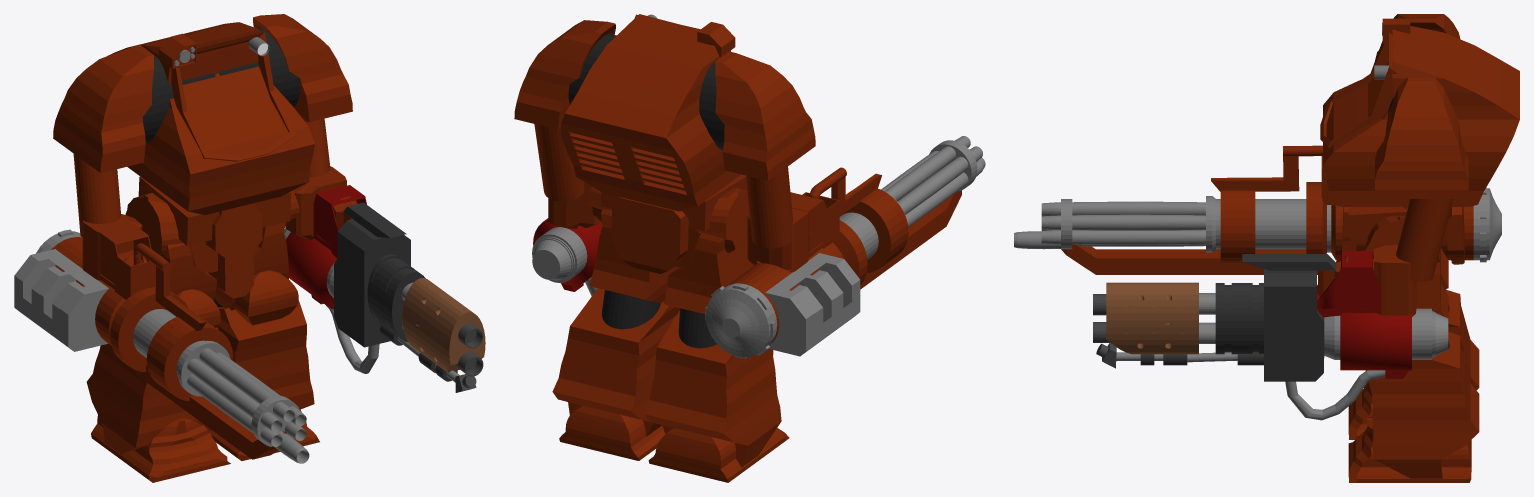
The model's file is TerminatorArmorWithAssaultCannon.Empty.fbx.
3 renders of one model, left to right at view 1: azimuth 30°, elevation 25°; view 2: azimuth 150°, elevation 25°; view 3: azimuth 270°, elevation 25°, orthographic.
Visible parts, largest first — view 1: AmmoBox, Torso, Pauldron.Right, Leg.Lower.Right, Leg.Lower.Left, ArmoredCollarImposter, Cube, Pauldron.Left, Cylinder.002, Boot.Right, Body1, ExtraArmourPlate.Front (+18 smaller); view 2: AmmoBox, Torso, Leg.Lower.Right, Leg.Lower.Left, Pauldron.Right, Pauldron.Left, ExtraArmourPlate.Back, Leg.Upper.Left, Boot.Right, Boot.Left, Leg.Upper.Right, InnerArm.Lower.Right (+11 smaller); view 3: AmmoBox, Torso, Leg.Lower.Left, Pauldron.Left, Body1, Cylinder.002, Cube, Cylinder, InnerArm.Lower.Left, Boot.Left, Body1.001, Bracer.Left (+12 smaller).
Part boxes in pixels (x1,y1,x2,y2): AmmoBox: (14, 224, 309, 463); Torso: (108, 22, 314, 214); Pauldron.Right: (53, 45, 154, 172); Leg.Lower.Right: (86, 327, 218, 454); Leg.Lower.Left: (217, 300, 314, 409); ArmoredCollarImposter: (171, 32, 295, 161); Cube: (334, 219, 410, 347); Pauldron.Left: (253, 14, 352, 121); Cylinder.002: (402, 278, 485, 372); Boot.Right: (91, 415, 230, 482); Body1: (286, 185, 366, 309); ExtraArmourPlate.Front: (205, 203, 262, 298); AmmoBox: (705, 136, 985, 358); Torso: (560, 14, 740, 211); Leg.Lower.Right: (644, 311, 781, 467); Leg.Lower.Left: (552, 288, 679, 436); Pauldron.Right: (715, 51, 815, 180); Pauldron.Left: (514, 20, 615, 129); ExtraArmourPlate.Back: (611, 197, 688, 273); Leg.Upper.Left: (663, 232, 753, 313); Boot.Right: (648, 428, 789, 482); Boot.Left: (559, 405, 665, 460); Leg.Upper.Right: (589, 209, 679, 303); InnerArm.Lower.Right: (746, 166, 792, 248); AmmoBox: (1014, 145, 1501, 274); Torso: (1323, 26, 1519, 206); Leg.Lower.Left: (1365, 332, 1479, 478); Pauldron.Left: (1375, 77, 1468, 198); Body1: (1317, 251, 1411, 370); Cylinder.002: (1106, 282, 1198, 354); Cube: (1264, 269, 1324, 381); Cylinder: (1215, 283, 1263, 354); InnerArm.Lower.Left: (1396, 199, 1453, 281); Boot.Left: (1348, 417, 1471, 482); Body1.001: (1324, 308, 1448, 359); Bracer.Left: (1374, 245, 1416, 316).
Bounding box in the file's own units: 161 × 237 × 210.
